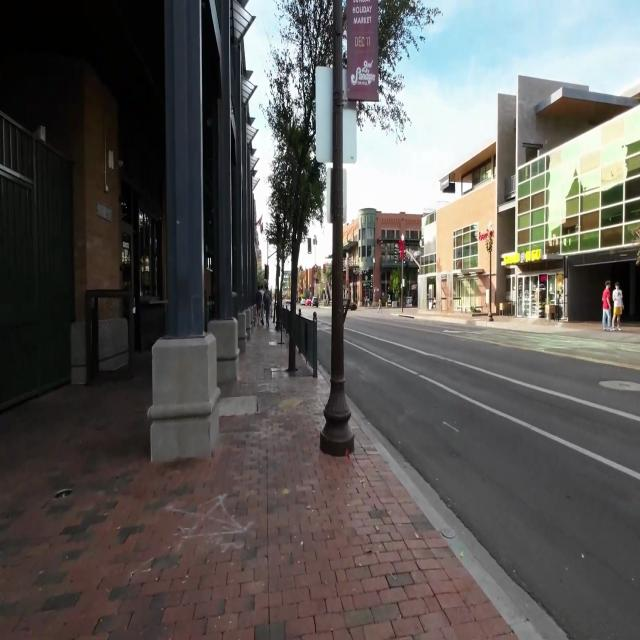road: (345, 311, 640, 639)
side walk: (0, 353, 523, 639)
street sign: (327, 69, 347, 409)
